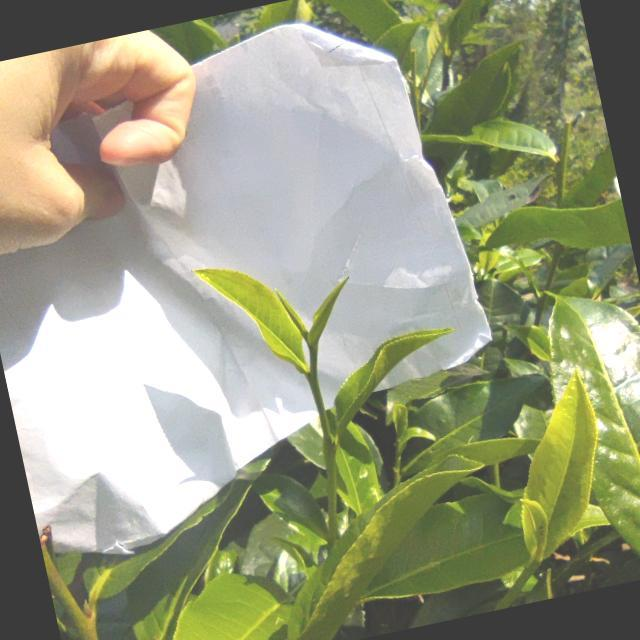Stem: (308, 372, 316, 385)
